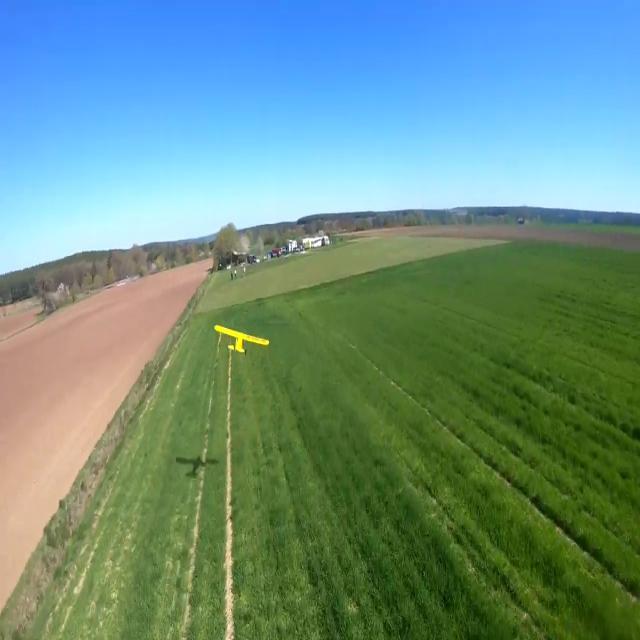iha: (215, 322, 272, 362)
